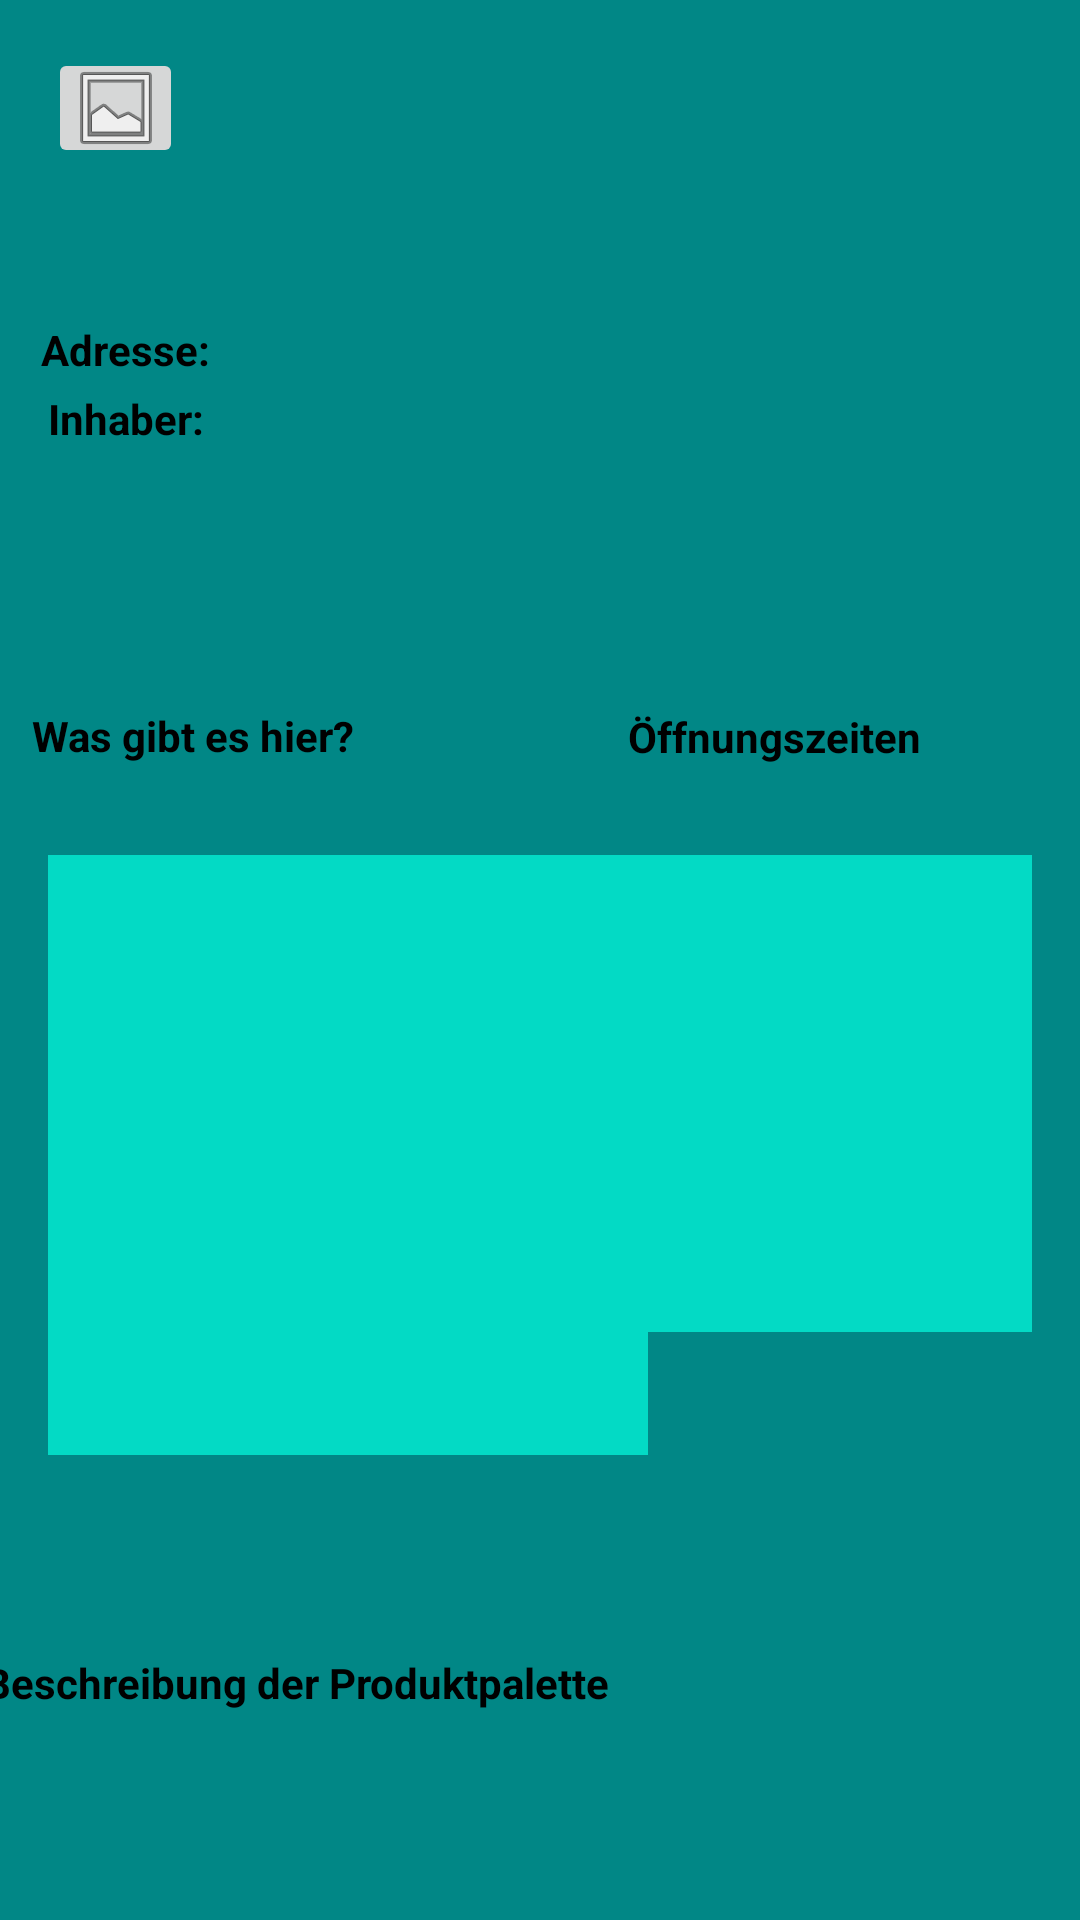

Screen size 1080*1920. Icon name, then its center in pixels as (x=x, y=y):
gallery: (x=115, y=108)
